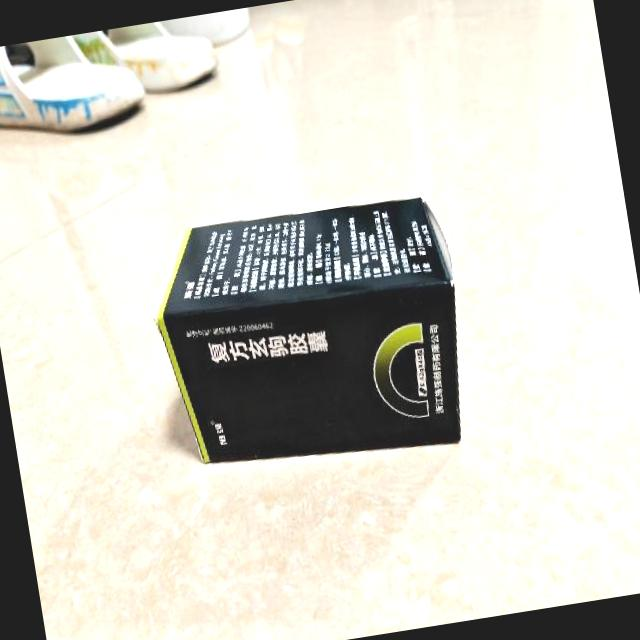box: (142, 188, 478, 488)
